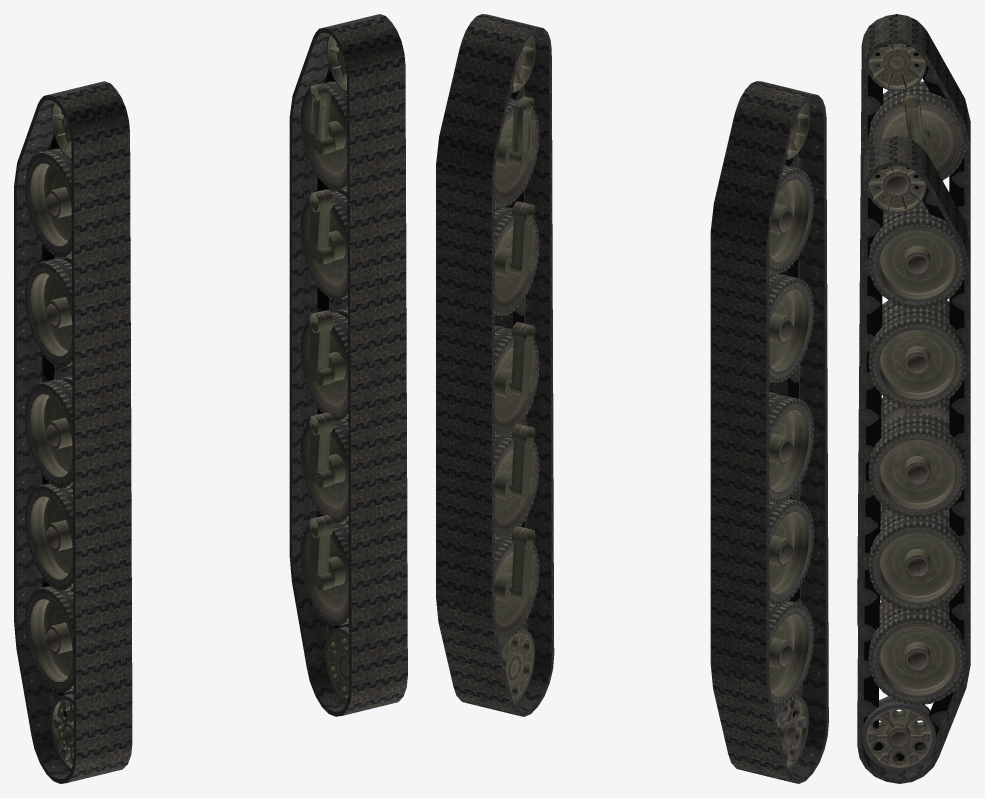
File: Chassis.glb
The picture shows the model from 3 angles, left to right: view 1: azimuth 30°, elevation 25°; view 2: azimuth 150°, elevation 25°; view 3: azimuth 270°, elevation 25°; orthographic projection. The views are drawn at different scales.
Parts seen in each view (by area): view 1: set_3_group_0, set_2_group_0, set_0_group_0, set_1_group_0; view 2: set_3_group_0, set_2_group_0, set_0_group_0, set_1_group_0; view 3: set_0_group_0, set_2_group_0, set_1_group_0, set_3_group_0.
Boxes of the visible parts, <box> form: set_3_group_0: <box>14,81,132,783</box>; set_2_group_0: <box>289,14,407,716</box>; set_0_group_0: <box>300,35,349,704</box>; set_1_group_0: <box>25,102,73,771</box>; set_3_group_0: <box>710,81,828,783</box>; set_2_group_0: <box>436,14,554,716</box>; set_0_group_0: <box>494,34,539,704</box>; set_1_group_0: <box>769,102,813,771</box>; set_0_group_0: <box>862,165,965,771</box>; set_2_group_0: <box>857,136,970,783</box>; set_1_group_0: <box>867,43,965,615</box>; set_3_group_0: <box>857,14,970,626</box>.
Bounding box in the file's own units: 2.95 × 5.83 × 0.9613.
Materials: 4 (4 with a texture image).
